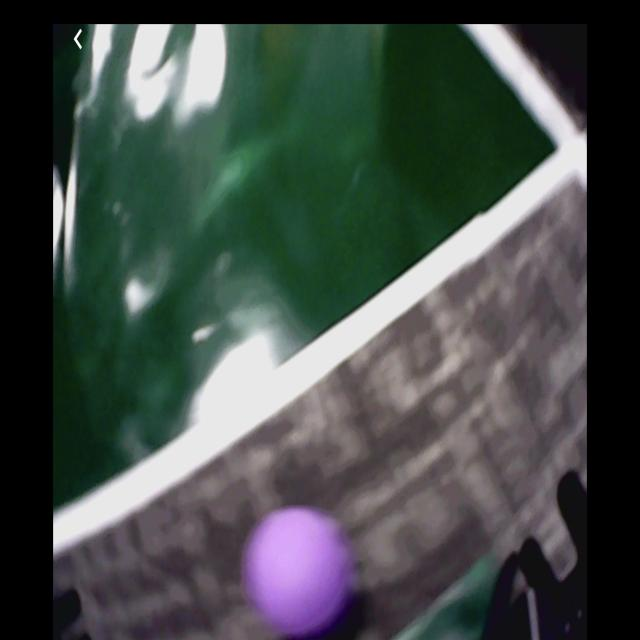ball: (257, 508, 348, 638)
